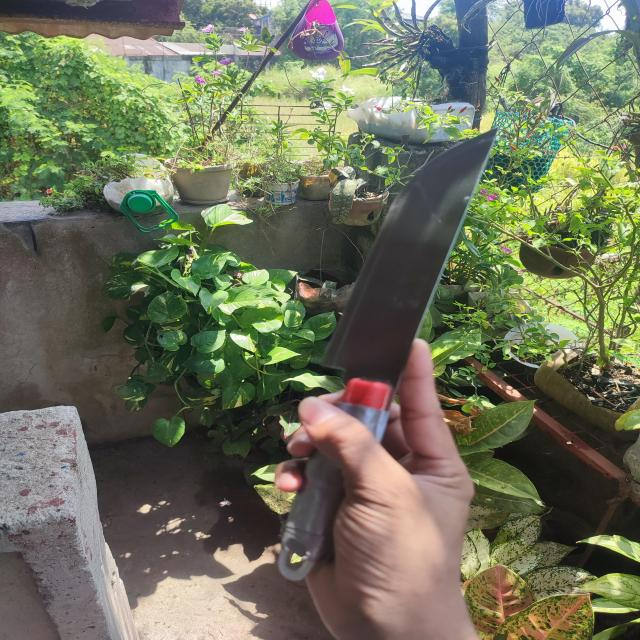knife: (273, 128, 497, 581)
